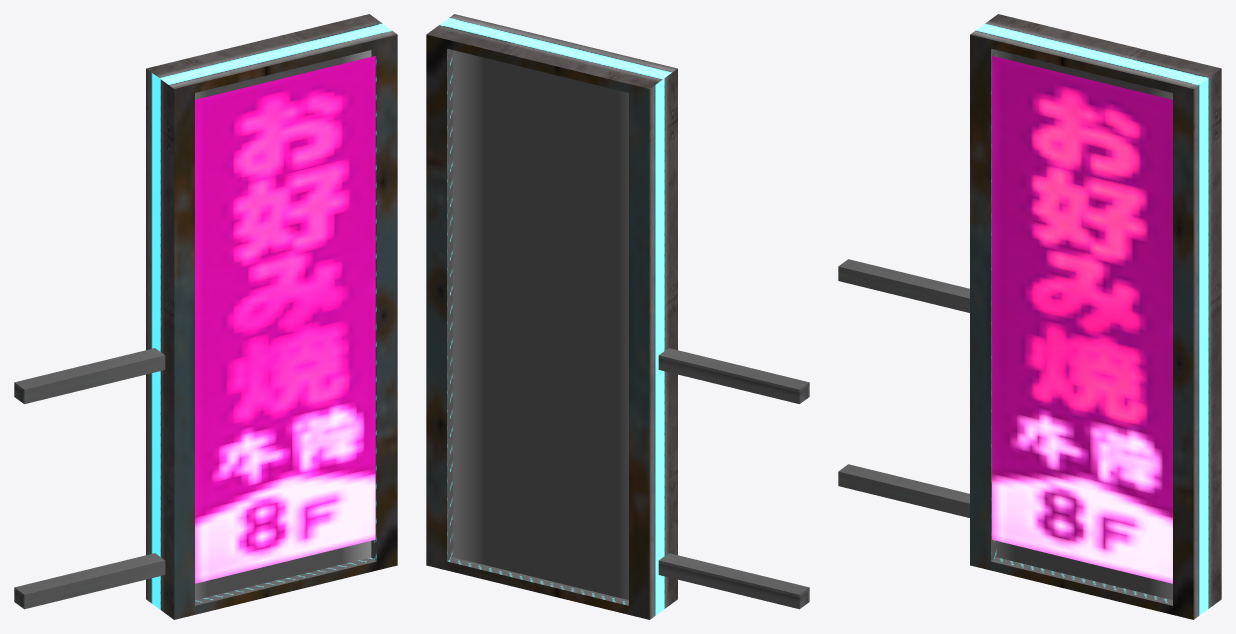
The model's file is Japanese_Sign_07.glb.
3 views of the same model, side by side, from view 1: azimuth 30°, elevation 25°; view 2: azimuth 150°, elevation 25°; view 3: azimuth 330°, elevation 25° (orthographic).
Parts seen in each view (by area): view 1: Japanese_Sign_07; view 2: Japanese_Sign_07; view 3: Japanese_Sign_07.
Part boxes in pixels (x1,y1,x2,y2): Japanese_Sign_07: [14, 14, 397, 619]; Japanese_Sign_07: [426, 14, 809, 619]; Japanese_Sign_07: [838, 14, 1221, 619].
Size of the model in its own units: 0.947 by 1.32 by 0.1264.
Materials: 2 (1 with a texture image).
